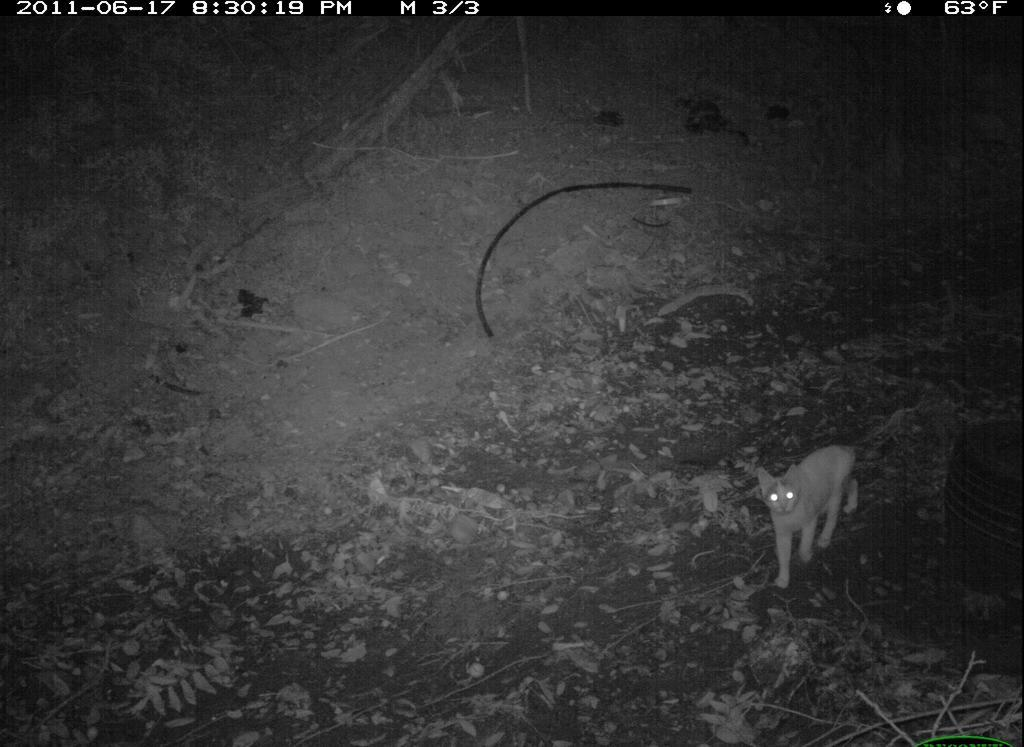cat: (748, 441, 890, 596)
